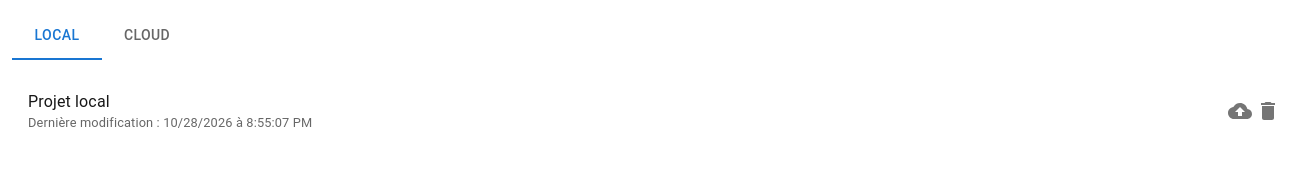
Test case: ProjectsList › affiche les projets cloud dans l'onglet Cloud une fois connecté
The image size is (1292, 172).
Expected: the text "Projet local" is shown, [28,92,110,111]
Click the tab "Cloud" at (147, 36), box [102,12,192,60]
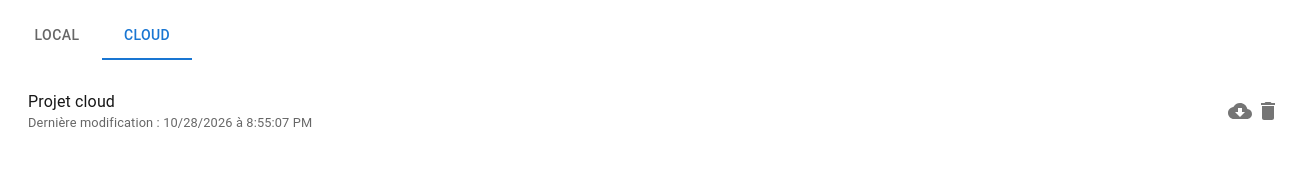
Result: the text "Projet cloud" is shown at [28,92,115,111]
Result: the button "Projet local" is gone
